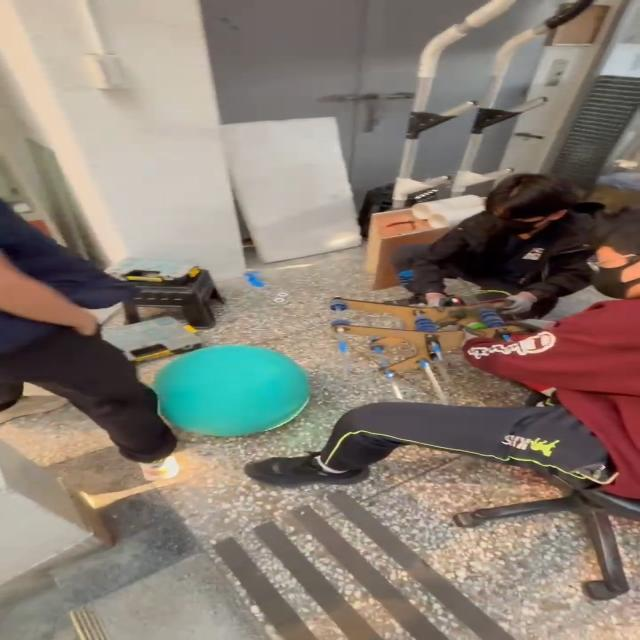ALGAE: (149, 343, 312, 438)
